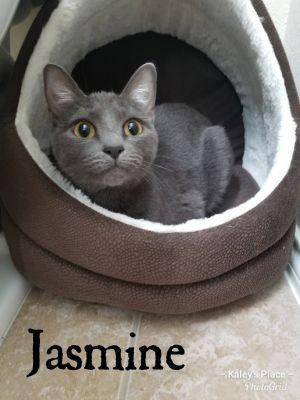rblue: (30, 50, 165, 196)
